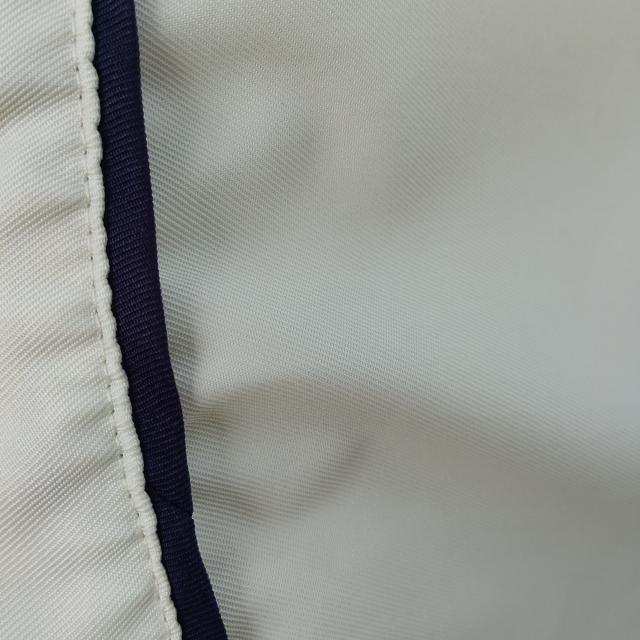education_male_uniform: (0, 3, 434, 640)
